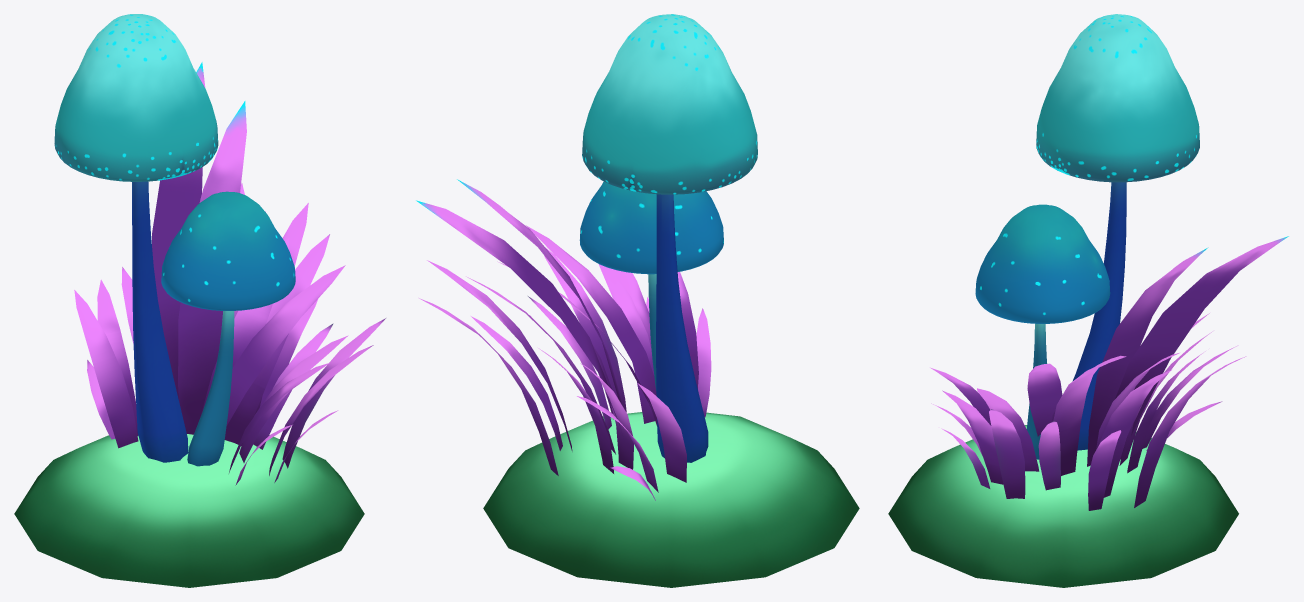
File: mashroom.glb
3 views of the same model, side by side, from view 1: azimuth 30°, elevation 25°; view 2: azimuth 150°, elevation 25°; view 3: azimuth 270°, elevation 25° (orthographic). The views are drawn at different scales.
Parts seen in each view (by area): view 1: Plane002; view 2: Plane002; view 3: Plane002.
Boxes of the visible parts, box(x1,y1,x2,y2) form: Plane002: box(14, 14, 385, 587); Plane002: box(416, 14, 859, 587); Plane002: box(888, 14, 1288, 587).
Bounding box in the file's own units: 8.81 × 12.46 × 9.39.
Materials: 1 (1 with a texture image).
